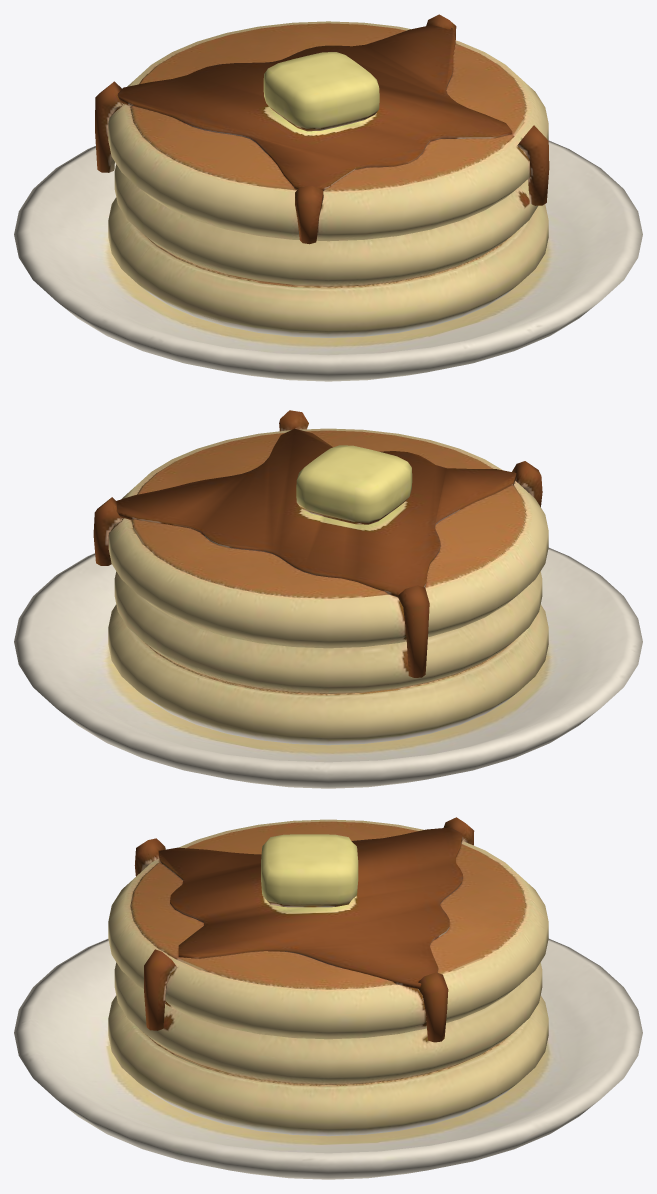
Rendered from hotcake.glb.
3 views of the same model, one above another, from view 1: azimuth 30°, elevation 25°; view 2: azimuth 150°, elevation 25°; view 3: azimuth 270°, elevation 25° (orthographic).
Visible parts, largest first — view 1: prop_hotcake_felt; view 2: prop_hotcake_felt; view 3: prop_hotcake_felt.
Boxes of the visible parts, left/top/right/bottom form: prop_hotcake_felt: left=14, top=14, right=642, bottom=381; prop_hotcake_felt: left=14, top=410, right=642, bottom=788; prop_hotcake_felt: left=14, top=817, right=642, bottom=1179.
Bounding box in the file's own units: 0.3 × 0.1192 × 0.3.
Materials: 1 (1 with a texture image).
